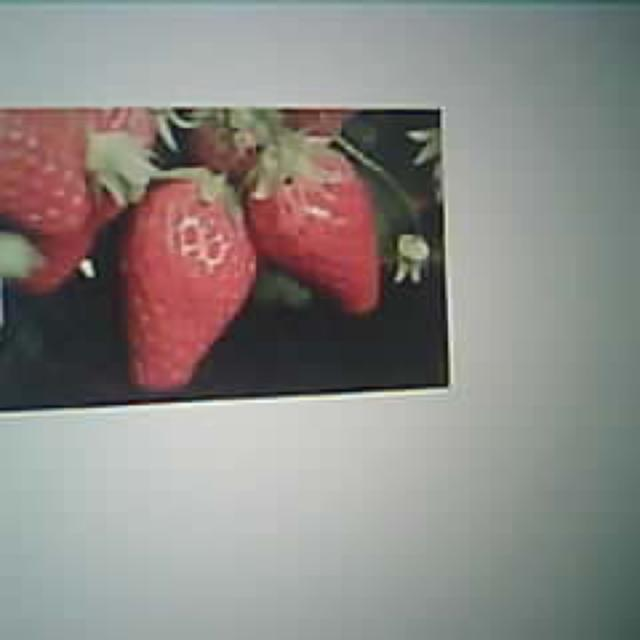strawberry: (117, 171, 257, 391), (249, 142, 381, 316)
